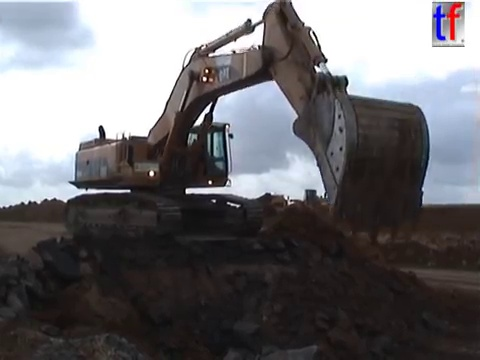excavator: (60, 1, 434, 248), (268, 185, 351, 223)
